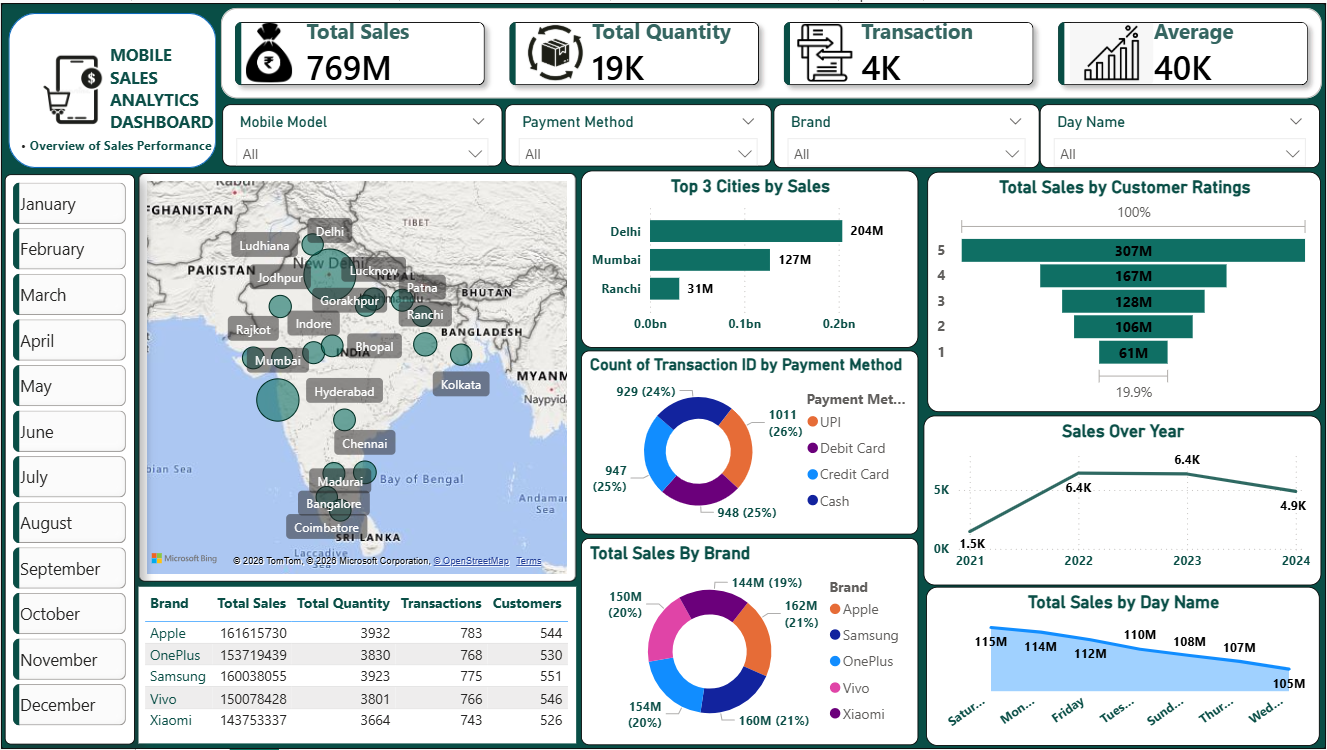

The dashboard page shown, as its layout file describes it:
{"tool":"powerbi","page":{"name":"Page 1","canvas":[1280,720],"ordinal":0},"visuals":[{"type":"map","fields":{"Size":["Sum(---------------------------------------------.Units Sold)"],"Category":["salesdata.City"]},"box":[132.7,164.1,422.3,394.5],"z":0},{"type":"cardVisual","fields":{"Data":["salesdata.totalsales","salesdata.totalqty","salesdata.counttrnc","salesdata.avg"]},"box":[207.2,0,1073.1,97.4],"z":1000},{"type":"lineChart","title":"Sales Over Year","fields":{"Y":["Sum(salesdata.Units Sold)"],"Category":["salesdata.Date.Variation.Date Hierarchy.Year"]},"box":[890.4,398.1,383.6,164.1],"z":2000},{"type":"donutChart","title":"Total Sales By Brand","fields":{"Category":["salesdata.Brand"],"Y":["salesdata.totalsales"]},"box":[559.8,516.4,325.7,200.3],"z":3000},{"type":"advancedSlicerVisual","fields":{"Values":["salesdata.Date.Variation.Date Hierarchy.Month"]},"box":[3.6,165.3,125.5,550.1],"z":4000},{"type":"donutChart","fields":{"Y":["CountNonNull(salesdata.Transaction ID)"],"Category":["salesdata.Payment Method"]},"box":[559.8,335.4,325.7,177.3],"z":5000},{"type":"slicer","fields":{"Values":["salesdata.Mobile Model"]},"box":[214.1,97.4,270.3,60.4],"z":6000},{"type":"slicer","fields":{"Values":["salesdata.Payment Method"]},"box":[485.8,97.4,258,60.4],"z":7000},{"type":"slicer","fields":{"Values":["salesdata.Brand"]},"box":[745.1,97.4,256.6,61.7],"z":8000},{"type":"slicer","fields":{"Values":["salesdata.Day Name"]},"box":[1003.1,97.4,270.3,61.7],"z":9000},{"type":"barChart","title":"Top 3 Cities by Sales","fields":{"Category":["salesdata.City"],"Y":["salesdata.totalsales"]},"box":[559.8,161.7,325.7,171.3],"z":10000},{"type":"areaChart","fields":{"Category":["salesdata.Day Name"],"Y":["salesdata.totalsales"]},"box":[892.8,563.4,380,153.2],"z":11000},{"type":"funnel","fields":{"Category":["salesdata.Customer Ratings"],"Y":["salesdata.totalsales"]},"box":[894,162.9,380,231.6],"z":12000},{"type":"tableEx","fields":{"Values":["salesdata.Brand","salesdata.totalsales","salesdata.totalqty","CountNonNull(salesdata.Transaction ID)","salesdata.Customer Name"]},"box":[132.7,563.4,422.3,150.8],"z":13000},{"type":"shape","box":[6.9,9.6,200.3,149.6],"z":14000},{"type":"image","title":"MOBILE SALES","box":[16.9,19.3,115.8,123.1],"z":15000},{"type":"textbox","box":[101,34,118,108],"z":16000},{"type":"textbox","box":[5,124,220.8,27.7],"z":16001}]}

Visuals, with their boxes in screenshot pixels (x1, y1, x2, y2), scaled from the page's 1280x720 canvas onto the 1327x750 screenshot:
map - Sum(---------------------------------------------.Units Sold) x salesdata.City: select_region(138, 171, 575, 582)
cardVisual - salesdata.totalsales x salesdata.totalqty: select_region(215, 0, 1326, 101)
"Sales Over Year" lineChart: select_region(923, 415, 1321, 586)
"Total Sales By Brand" donutChart: select_region(580, 538, 918, 747)
advancedSlicerVisual - salesdata.Date.Variation.Date Hierarchy.Month: select_region(4, 172, 134, 745)
donutChart - CountNonNull(salesdata.Transaction ID) x salesdata.Payment Method: select_region(580, 349, 918, 534)
slicer - salesdata.Mobile Model: select_region(222, 101, 502, 164)
slicer - salesdata.Payment Method: select_region(504, 101, 771, 164)
slicer - salesdata.Brand: select_region(772, 101, 1038, 166)
slicer - salesdata.Day Name: select_region(1040, 101, 1320, 166)
"Top 3 Cities by Sales" barChart: select_region(580, 168, 918, 347)
areaChart - salesdata.Day Name x salesdata.totalsales: select_region(926, 587, 1320, 746)
funnel - salesdata.Customer Ratings x salesdata.totalsales: select_region(927, 170, 1321, 411)
tableEx - salesdata.Brand x salesdata.totalsales: select_region(138, 587, 575, 744)
shape: select_region(7, 10, 215, 166)
"MOBILE SALES" image: select_region(18, 20, 138, 148)
textbox: select_region(105, 35, 227, 148)
textbox: select_region(5, 129, 234, 158)
